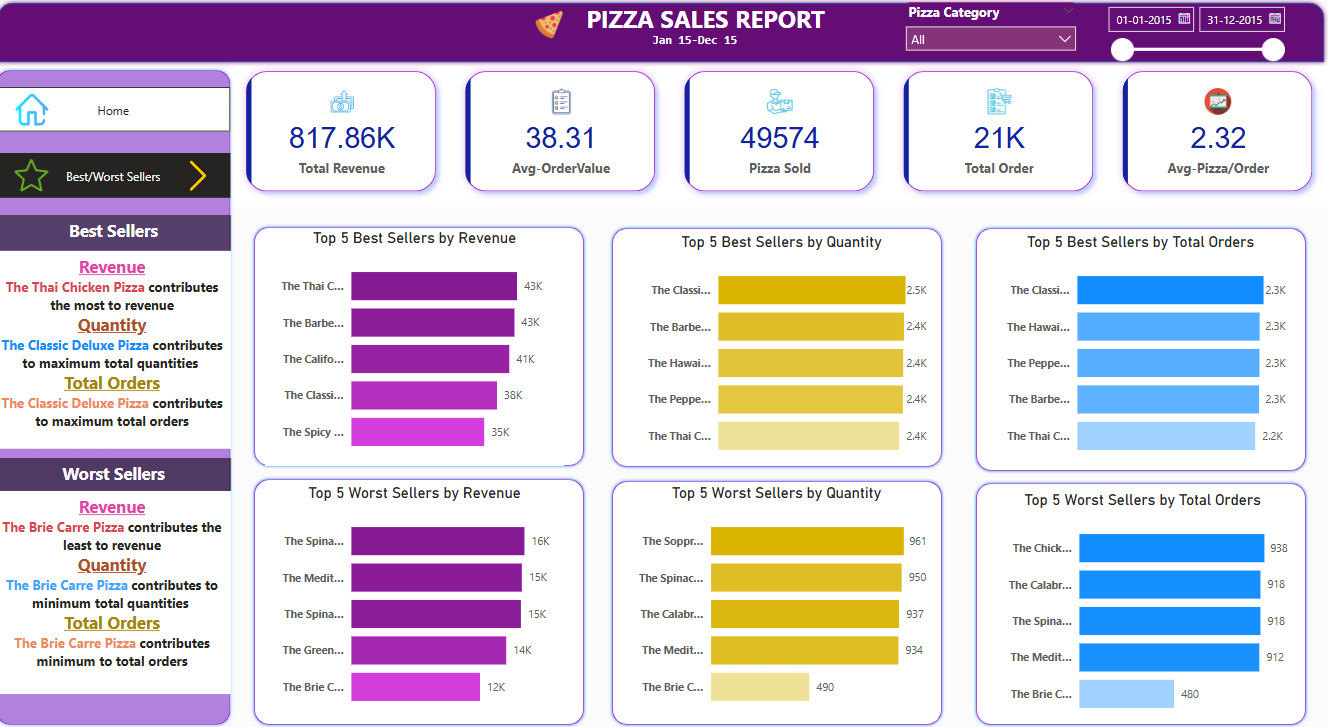

The page's visual inventory and layout, read from the dashboard file:
{"tool":"powerbi","page":{"name":"Best/Worst Sellers","canvas":[1500,820],"ordinal":1},"visuals":[{"type":"cardVisual","fields":{"Data":["pizza_sales.Total Revenue","pizza_sales.Avg-OrderValue","pizza_sales.Pizza Sold","pizza_sales.Total Order","pizza_sales.Avg-Pizza/Order"]},"box":[267.2,65.1,1232.8,169.5],"z":0},{"type":"shape","box":[0,0,1500,77.5],"z":1000},{"type":"textbox","box":[658.6,0,281.6,64.7],"z":2000},{"type":"textbox","box":[724.5,32.9,127.2,36.3],"z":3000},{"type":"image","box":[433.8,9.1,381.5,42],"z":4000},{"type":"shape","box":[289.7,253.7,377.2,275.1],"z":5000},{"type":"shape","box":[0,77.5,270,742.1],"z":6000},{"type":"textbox","box":[3.4,243.6,263.8,40.4],"z":7000},{"type":"textbox","box":[0,284.1,267.2,222.3],"z":8000},{"type":"textbox","box":[3.4,516.5,263.8,37.1],"z":9000},{"type":"textbox","box":[0,553.5,267.2,227.9],"z":10000},{"type":"slicer","fields":{"Values":["pizza_sales.pizza_category"]},"box":[1015,0,211.1,68.5],"z":11000},{"type":"slicer","fields":{"Values":["pizza_sales.order_date"]},"box":[1239.5,0,218.9,77.5],"z":12000},{"type":"shape","box":[289.7,536.7,377.2,282.9],"z":13000},{"type":"shape","box":[691.6,254.9,377.2,275.1],"z":14000},{"type":"shape","box":[1100.3,541.2,377.2,278.4],"z":15000},{"type":"shape","box":[1100.3,254.9,377.2,279.6],"z":16000},{"type":"shape","box":[691.6,538.9,377.2,280.7],"z":17000},{"type":"clusteredBarChart","title":"Top  5 Best Sellers by Revenue","fields":{"Category":["pizza_sales.pizza_name"],"Y":["pizza_sales.Total Revenue"]},"box":[305.4,259.4,335.7,266.1],"z":18000},{"type":"clusteredBarChart","title":"Top  5 Worst Sellers by Revenue","fields":{"Category":["pizza_sales.pizza_name"],"Y":["pizza_sales.Total Revenue"]},"box":[305.4,545.7,335.7,266.1],"z":19000},{"type":"clusteredBarChart","title":"Top  5 Worst Sellers by Quantity","fields":{"Category":["pizza_sales.pizza_name"],"Y":["pizza_sales.Pizza Sold"]},"box":[706.2,545.7,346.9,266.1],"z":20000},{"type":"clusteredBarChart","title":"Top  5 Best Sellers by Quantity","fields":{"Category":["pizza_sales.pizza_name"],"Y":["Sum(pizza_sales.quantity)"]},"box":[717.4,263.8,335.7,266.1],"z":21000},{"type":"clusteredBarChart","title":"Top  5 Best Sellers by Total Orders","fields":{"Category":["pizza_sales.pizza_name"],"Y":["pizza_sales.Total Order"]},"box":[1120.5,263.8,335.7,266.1],"z":22000},{"type":"clusteredBarChart","title":"Top  5 Worst Sellers by Total Orders","fields":{"Category":["pizza_sales.pizza_name"],"Y":["pizza_sales.Total Order"]},"box":[1122.8,553.5,335.7,266.1],"z":23000},{"type":"pageNavigator","box":[3.4,99.9,263.8,50.5],"z":24000},{"type":"pageNavigator","box":[3.4,174,263.8,50.5],"z":25000},{"type":"image","box":[20.2,99.9,47.2,50.5],"z":26000},{"type":"image","box":[19.1,174,48.3,50.5],"z":27000},{"type":"image","box":[207.7,174,45,50.5],"z":28000}]}

Visuals, with their boxes in screenshot pixels (x1, y1, x2, y2), scaled from the page's 1500x820 canvas onto the 1328x727 screenshot:
cardVisual - pizza_sales.Total Revenue x pizza_sales.Avg-OrderValue: 237, 58, 1327, 208
shape: 0, 0, 1327, 69
textbox: 583, 0, 832, 57
textbox: 641, 29, 754, 61
image: 384, 8, 722, 45
shape: 256, 225, 590, 469
shape: 0, 69, 239, 726
textbox: 3, 216, 237, 252
textbox: 0, 252, 237, 449
textbox: 3, 458, 237, 491
textbox: 0, 491, 237, 693
slicer - pizza_sales.pizza_category: 899, 0, 1086, 61
slicer - pizza_sales.order_date: 1097, 0, 1291, 69
shape: 256, 476, 590, 726
shape: 612, 226, 946, 470
shape: 974, 480, 1308, 726
shape: 974, 226, 1308, 474
shape: 612, 478, 946, 726
"Top  5 Best Sellers by Revenue" clusteredBarChart: 270, 230, 568, 466
"Top  5 Worst Sellers by Revenue" clusteredBarChart: 270, 484, 568, 720
"Top  5 Worst Sellers by Quantity" clusteredBarChart: 625, 484, 932, 720
"Top  5 Best Sellers by Quantity" clusteredBarChart: 635, 234, 932, 470
"Top  5 Best Sellers by Total Orders" clusteredBarChart: 992, 234, 1289, 470
"Top  5 Worst Sellers by Total Orders" clusteredBarChart: 994, 491, 1291, 726
pageNavigator: 3, 89, 237, 133
pageNavigator: 3, 154, 237, 199
image: 18, 89, 60, 133
image: 17, 154, 60, 199
image: 184, 154, 224, 199
